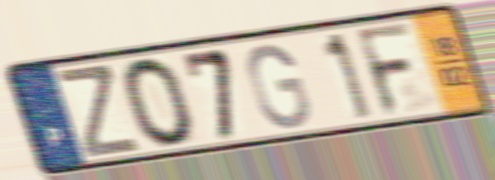1: (321, 30, 376, 122)
7: (180, 47, 239, 143)
F: (352, 19, 418, 120)
G: (244, 40, 314, 131)
O: (119, 54, 199, 150)
Z: (54, 62, 144, 161)
